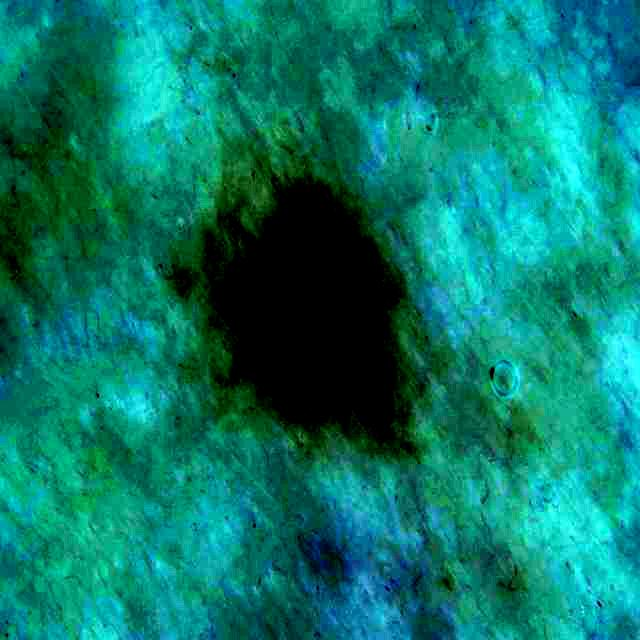MEL: (244, 199, 373, 405)
